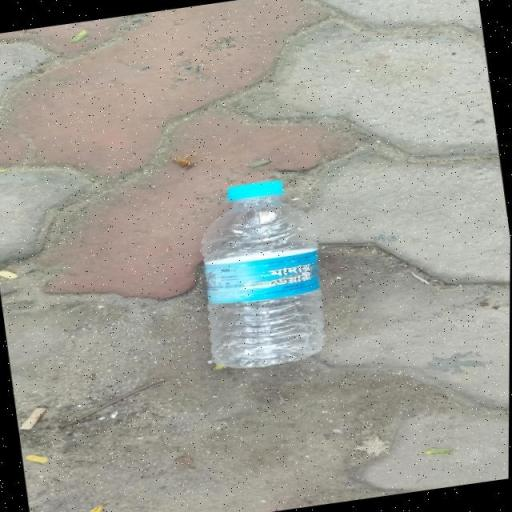plastic: (187, 175, 336, 374)
